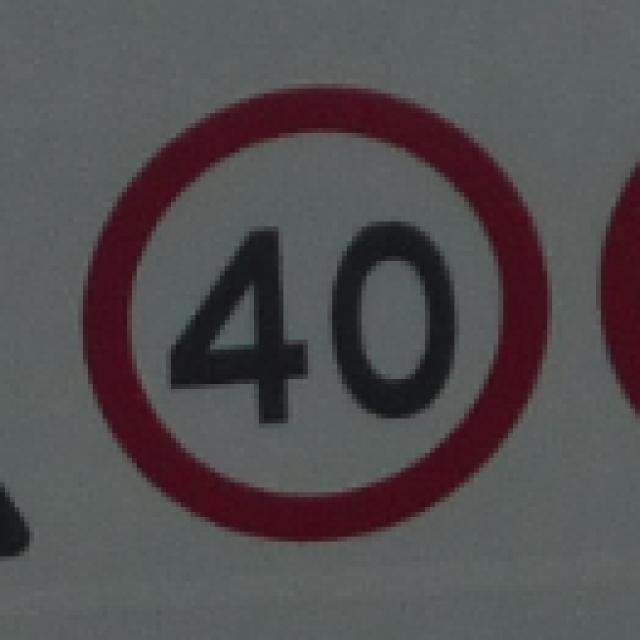Speed: (77, 89, 557, 539)
